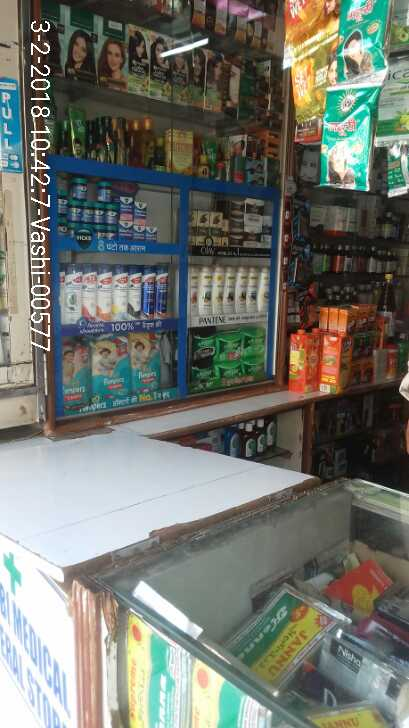beauty: (63, 264, 84, 321), (95, 263, 114, 319), (113, 263, 130, 319), (129, 263, 144, 320), (83, 262, 97, 320), (198, 265, 212, 316), (211, 265, 225, 313), (243, 196, 264, 228), (246, 266, 259, 314), (234, 265, 246, 315), (224, 265, 234, 313), (210, 213, 224, 247), (259, 265, 269, 312), (70, 176, 88, 201), (196, 211, 209, 245), (96, 179, 112, 202), (244, 232, 262, 250), (228, 199, 243, 214), (228, 233, 241, 249)
pharmacy: (90, 336, 131, 395), (60, 340, 92, 413), (128, 334, 162, 392), (191, 327, 214, 364), (213, 332, 242, 360), (239, 328, 264, 356), (132, 201, 148, 227), (117, 198, 132, 222), (67, 199, 80, 225), (131, 223, 145, 244), (104, 204, 117, 225), (81, 201, 92, 225), (118, 221, 130, 243), (93, 203, 102, 223), (148, 225, 156, 243)
